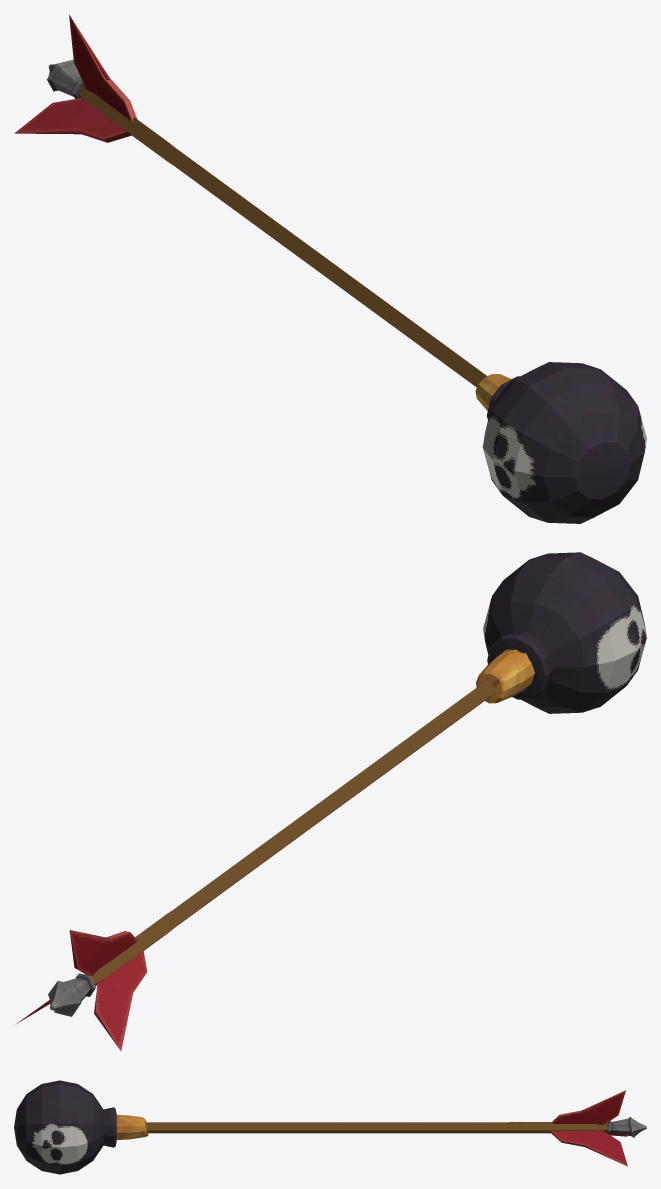
File: item_arrow_bomb.glb
The picture shows the model from 3 angles, top to bottom: view 1: azimuth 30°, elevation 25°; view 2: azimuth 150°, elevation 25°; view 3: azimuth 270°, elevation 25°; orthographic projection. The views are drawn at different scales.
Parts seen in each view (by area): view 1: Bomb_Arrow; view 2: Bomb_Arrow; view 3: Bomb_Arrow.
Part boxes in pixels (box(x1,y1,x2,y2)): Bomb_Arrow: box(14, 14, 646, 523); Bomb_Arrow: box(16, 552, 646, 1051); Bomb_Arrow: box(14, 1080, 646, 1174).
Size of the model in its own units: 0.0779 by 0.0779 by 0.5212.
Materials: 1 (1 with a texture image).
